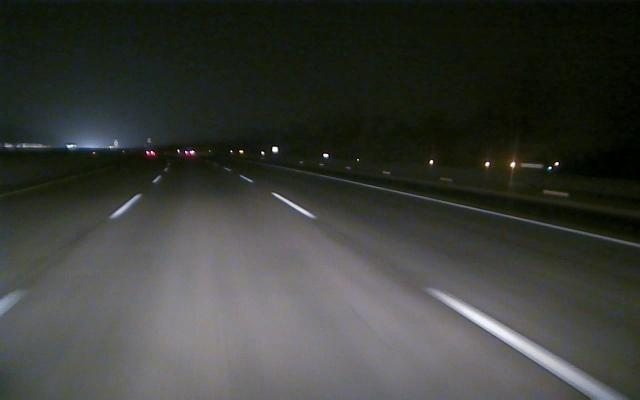lane: (268, 190, 624, 399), (3, 178, 159, 313), (361, 182, 640, 248)
